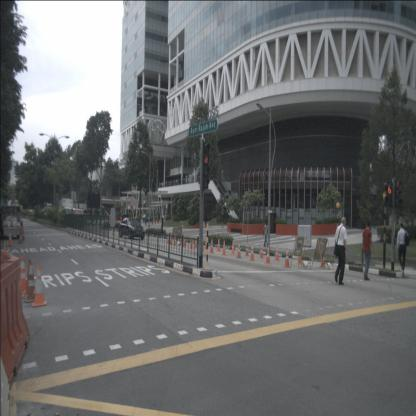barrier: (0, 257, 29, 385), (0, 355, 20, 416), (0, 242, 22, 264)
cone: (32, 263, 48, 306), (25, 261, 36, 304), (19, 257, 28, 306), (7, 230, 14, 248), (230, 238, 236, 256), (209, 237, 214, 254), (222, 240, 227, 256), (237, 243, 242, 259), (190, 235, 194, 251), (217, 237, 221, 252), (194, 235, 198, 250), (19, 227, 23, 239), (205, 236, 208, 251), (202, 239, 205, 253), (184, 235, 187, 248), (167, 232, 170, 245), (22, 226, 25, 238), (174, 236, 177, 247), (183, 235, 185, 248), (170, 235, 172, 246), (180, 236, 182, 246)
